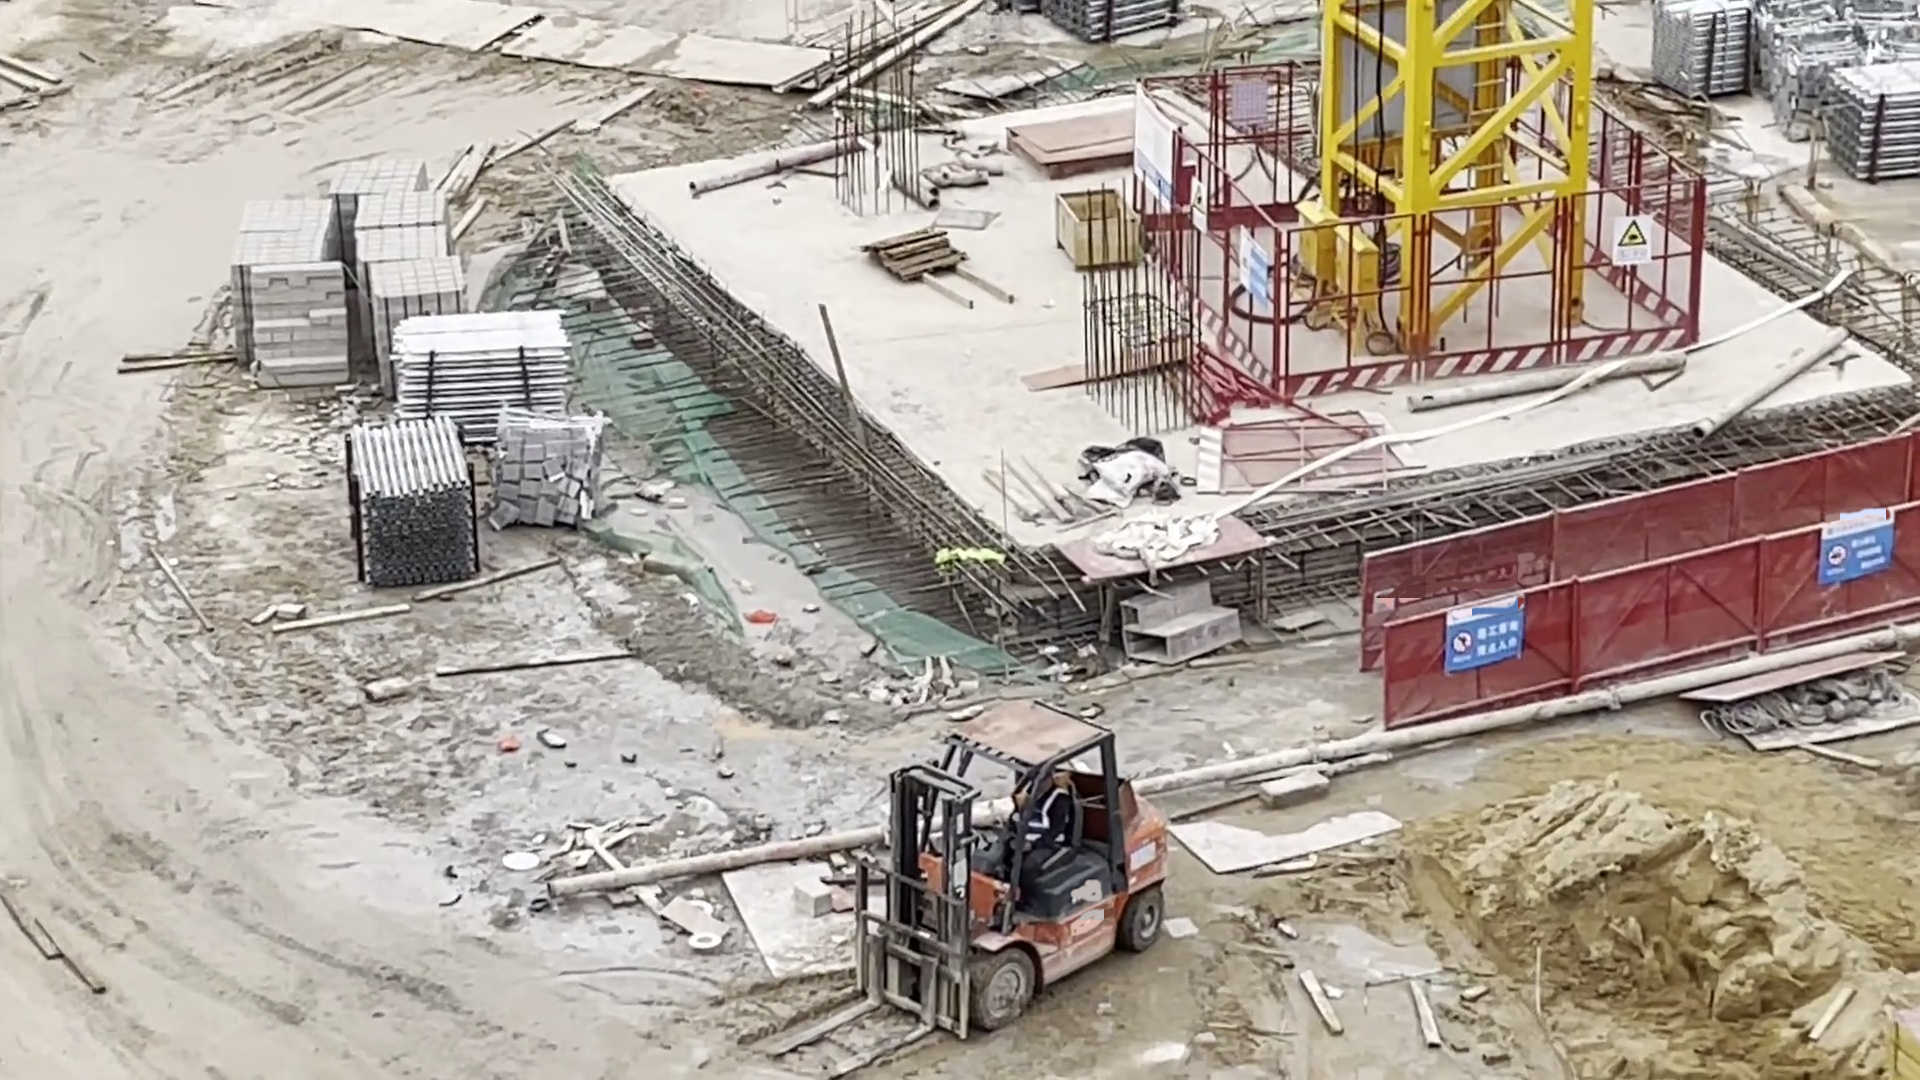brick: (330, 157, 469, 396), (233, 198, 351, 388)
ebox: (1333, 224, 1385, 352), (1291, 200, 1335, 306)
scaffold: (396, 309, 568, 444), (348, 415, 476, 592), (1829, 57, 1920, 177), (1654, 1, 1754, 103)
slogan: (1445, 597, 1524, 671), (1820, 512, 1895, 585), (1240, 225, 1266, 309)
